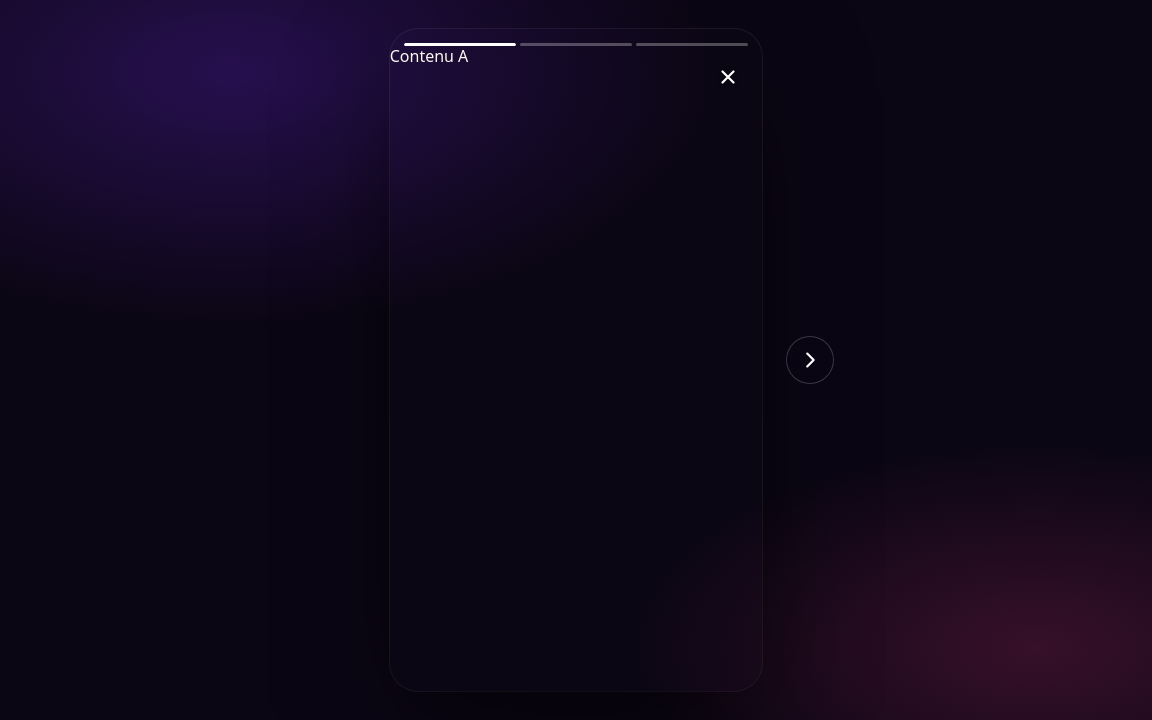
it: StoryPlayer › propose des boutons accessibles précédente / suivante
This screenshot has width=1152, height=720.
Click the button named "Carte suivante".
click(810, 360)  # box [786,336,834,384]
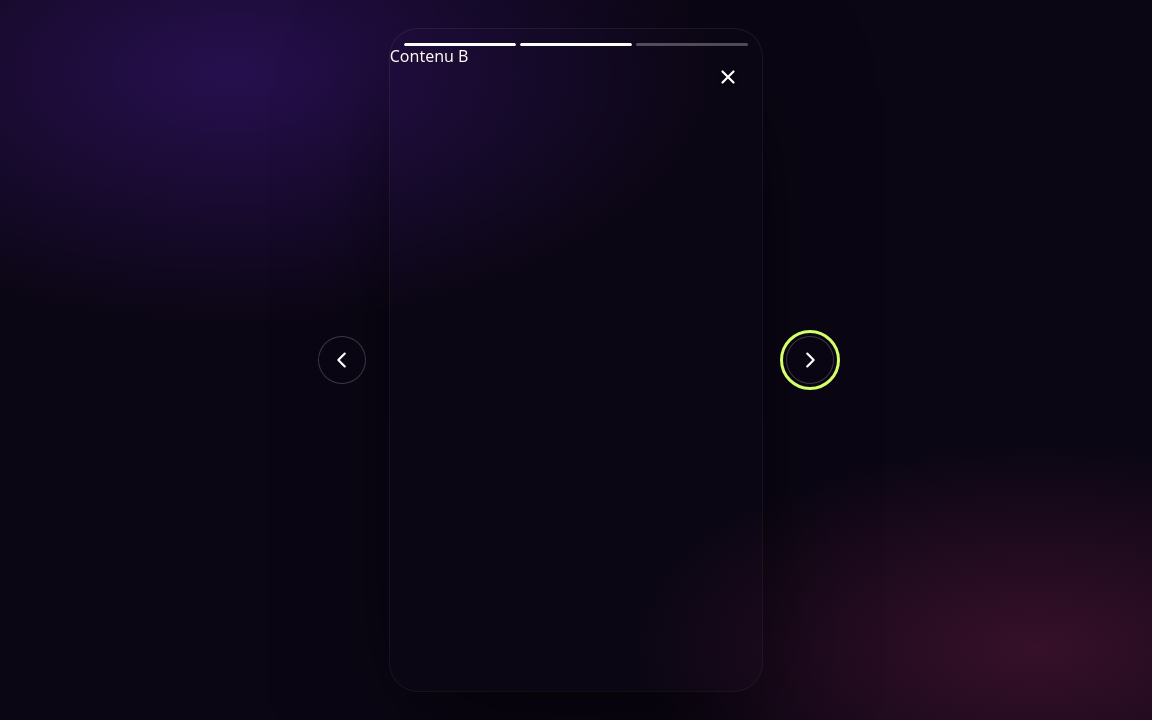
Check: the text "Contenu B" is shown, box [390,45,468,67]
